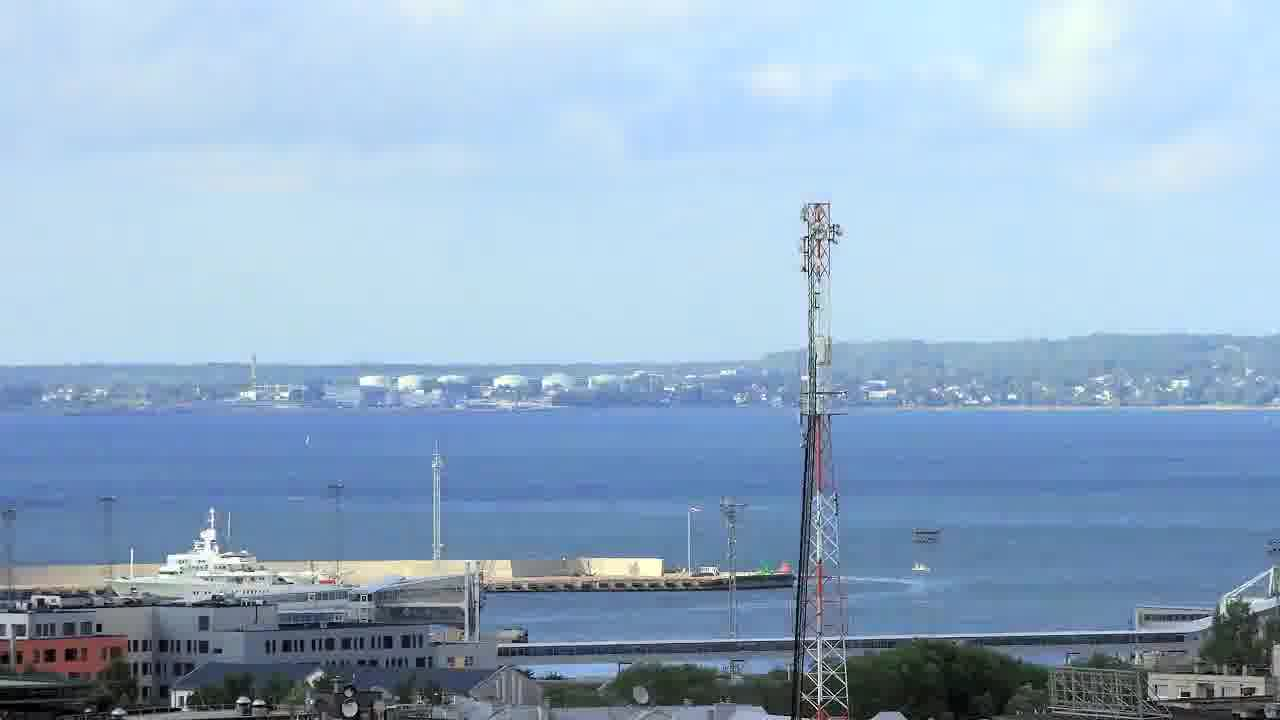type-3: (75, 497, 364, 606)
type-4: (897, 547, 943, 587)
